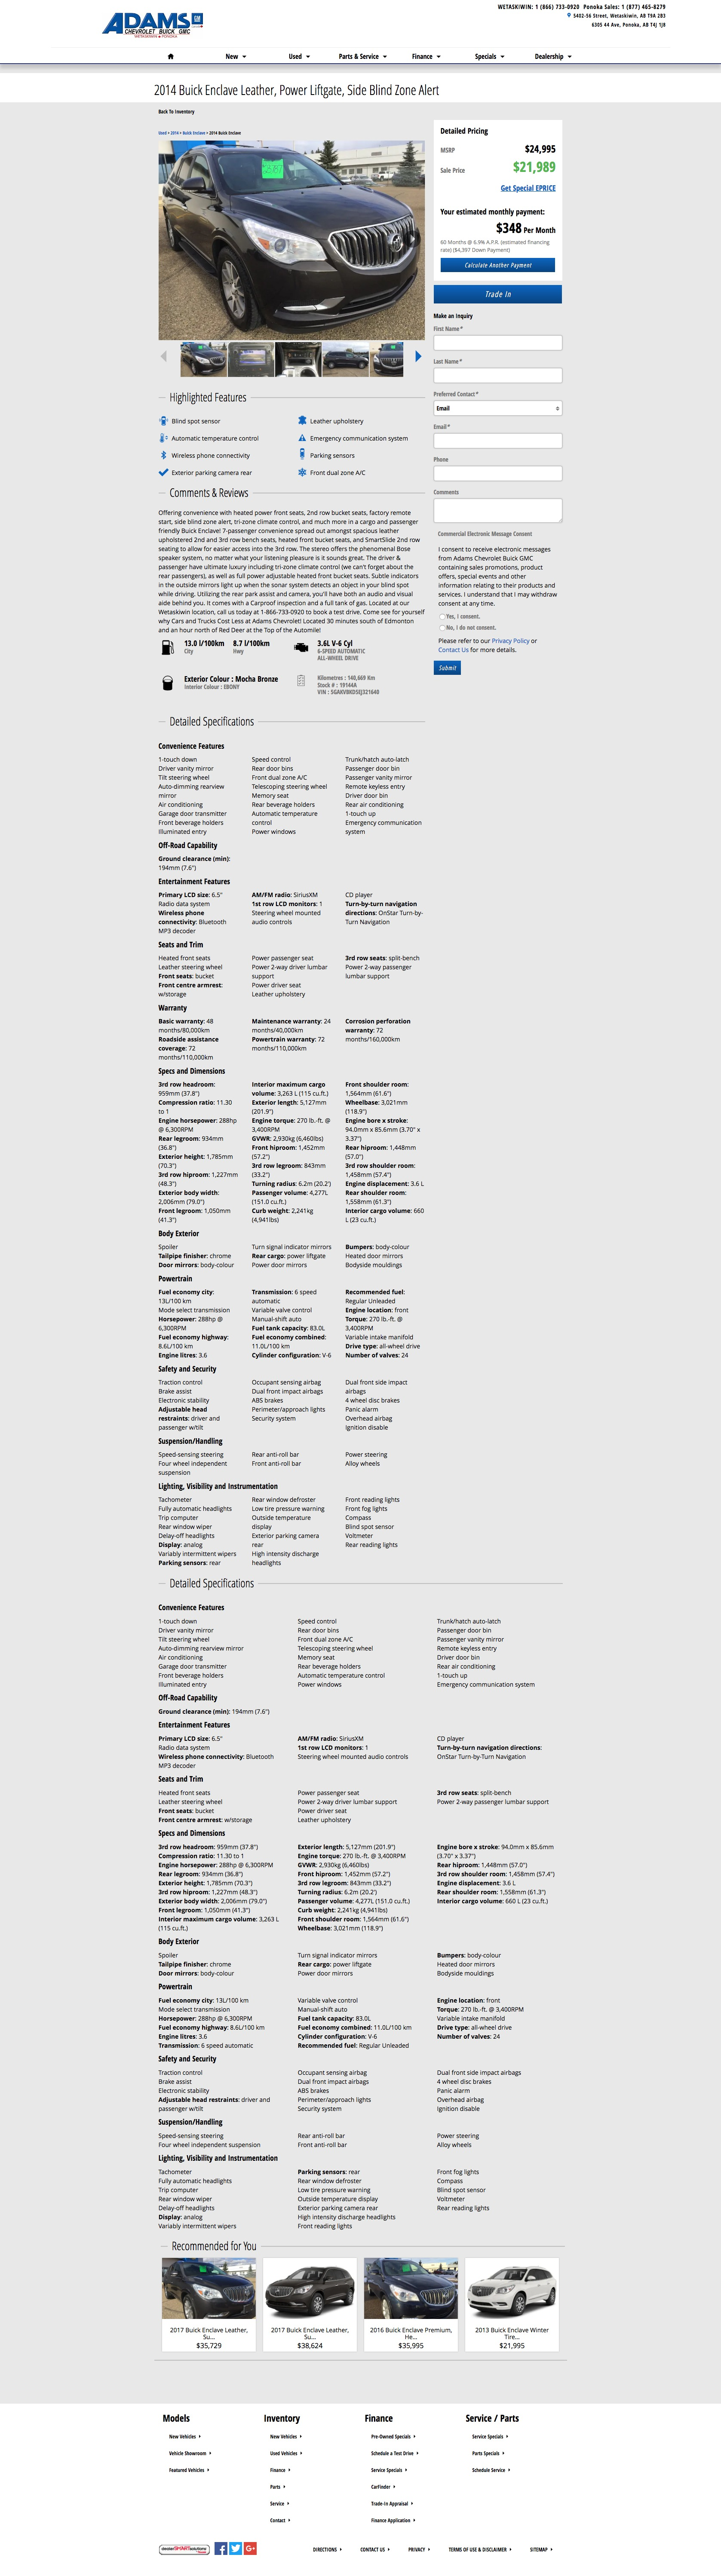car: (416, 350, 422, 363)
